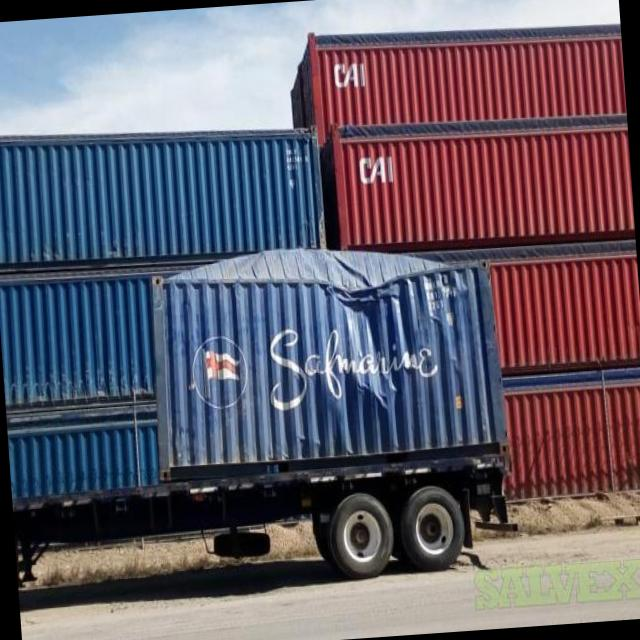Deframe_or_Dent: (178, 224, 482, 448)
